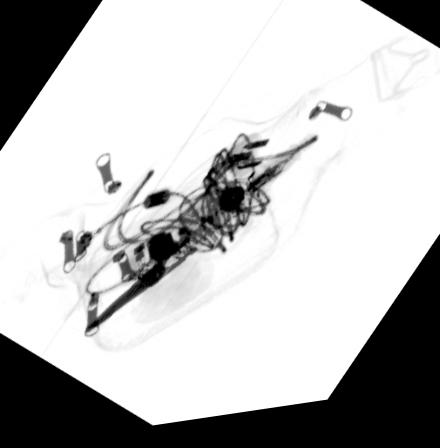Scissors: (80, 148, 298, 337)
